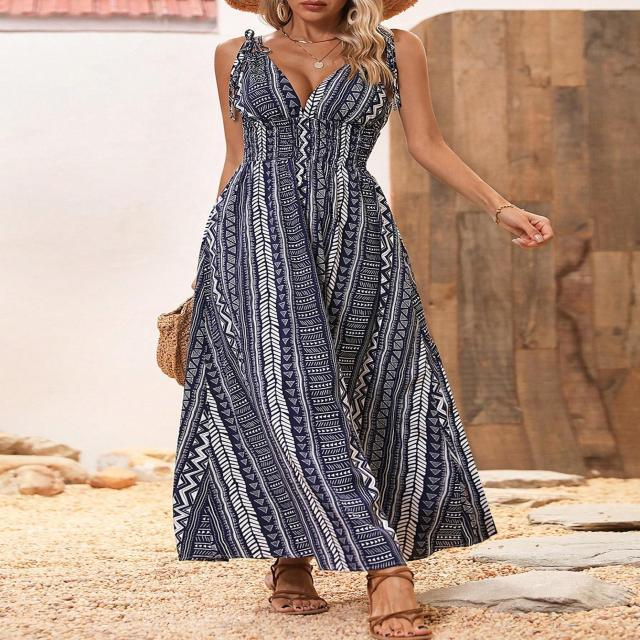Nail: (534, 233, 545, 242), (509, 240, 518, 246), (517, 238, 527, 243)
